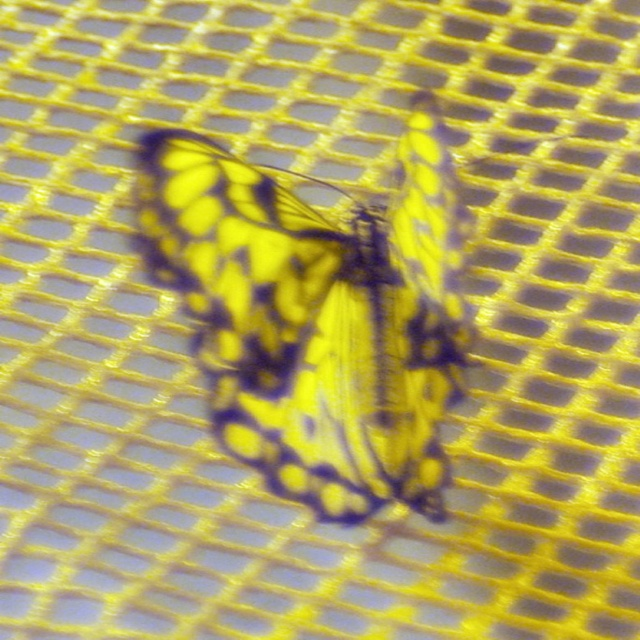Butterfly: (105, 48, 543, 542)
